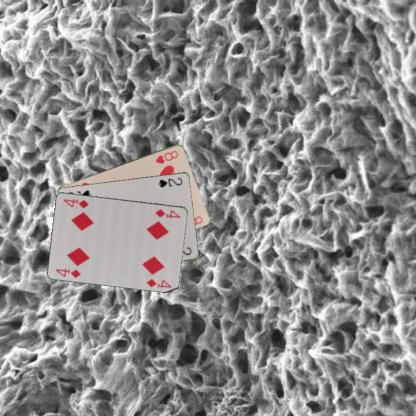2s: (156, 174, 184, 188)
4d: (152, 206, 182, 220), (53, 266, 82, 279)
8h: (152, 148, 180, 165)
